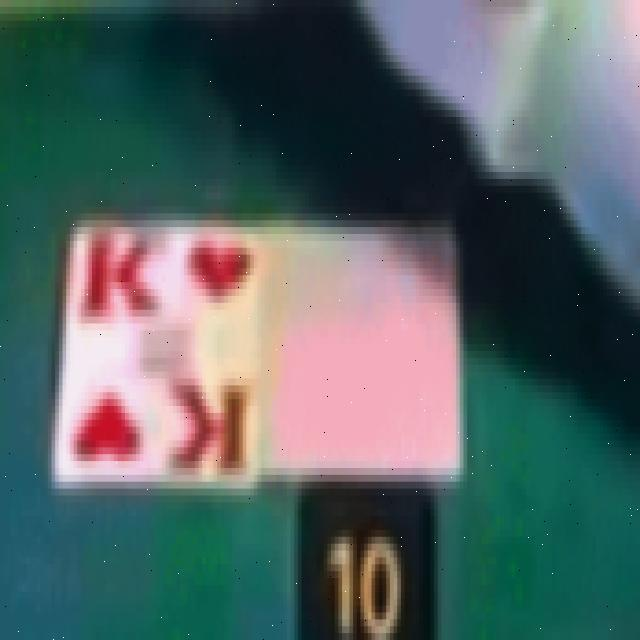Card-K: (60, 221, 266, 487)
